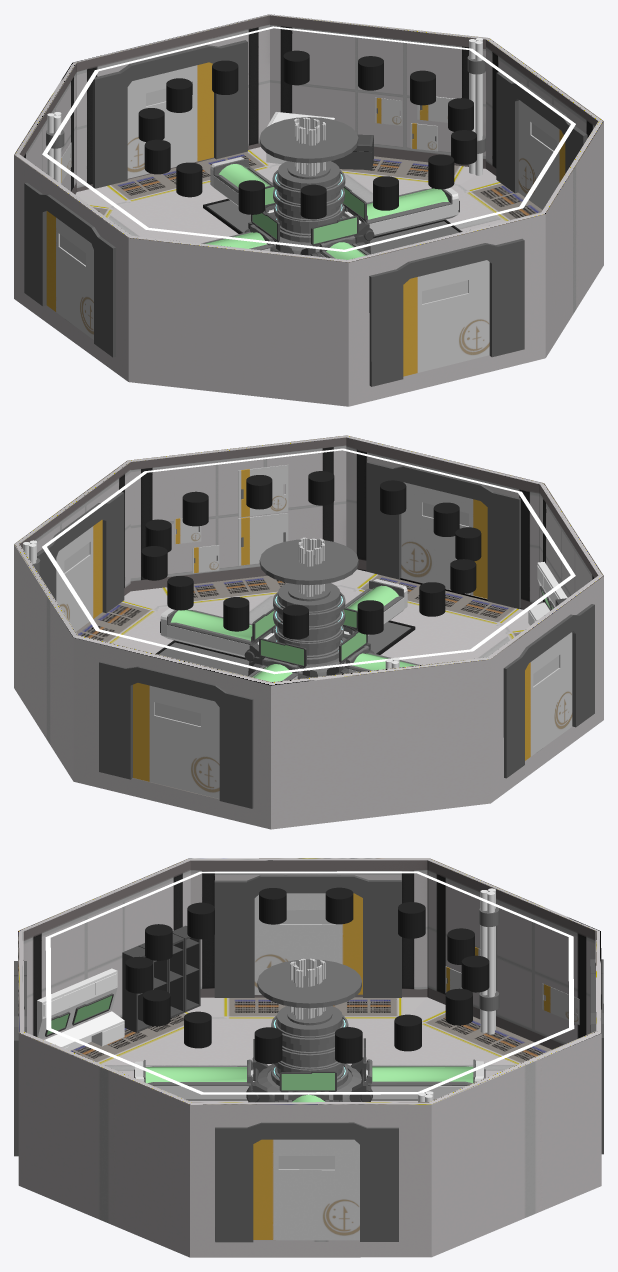
File: HyperSleepChamber.glb
3 renders of one model, top to bottom at view 1: azimuth 30°, elevation 25°; view 2: azimuth 150°, elevation 25°; view 3: azimuth 270°, elevation 25°, orthographic. The views are drawn at different scales.
Visible parts, largest first — view 1: Walls -col, Floor -col, Cylinder.043, door2, door3, InnerDoor.001, Cylinder.001, InnerDoor.003, door4, InnerDoor.002, LightBar, door (+15 smaller); view 2: Walls -col, Floor -col, Cylinder.043, door3, door2, InnerDoor.003, Cylinder.001, door4, InnerDoor.001, InnerDoor.002, door, LightBar (+15 smaller); view 3: Walls -col, Floor -col, Cylinder.043, door4, door, InnerDoor, Cylinder.001, InnerDoor.002, LightBar, Cube.019, Cylinder.038, Cylinder.042 (+12 smaller).
Boxes of the visible parts, bbox=[...] form: Walls -col: bbox=[14, 14, 603, 406]; Floor -col: bbox=[46, 147, 542, 335]; Cylinder.043: bbox=[138, 50, 476, 219]; door2: bbox=[369, 238, 524, 386]; door3: bbox=[92, 40, 247, 188]; InnerDoor.001: bbox=[403, 260, 489, 376]; Cylinder.001: bbox=[259, 117, 358, 254]; InnerDoor.003: bbox=[127, 62, 213, 178]; door4: bbox=[24, 183, 115, 357]; InnerDoor.002: bbox=[46, 211, 93, 339]; LightBar: bbox=[42, 26, 575, 251]; door: bbox=[496, 72, 587, 193]; Walls -col: bbox=[14, 435, 603, 829]; Floor -col: bbox=[76, 569, 564, 799]; Cylinder.043: bbox=[141, 471, 481, 639]; door3: bbox=[99, 661, 253, 808]; door2: bbox=[366, 461, 520, 608]; InnerDoor.003: bbox=[133, 683, 219, 798]; Cylinder.001: bbox=[259, 539, 358, 676]; door4: bbox=[503, 604, 594, 778]; InnerDoor.001: bbox=[401, 482, 487, 598]; InnerDoor.002: bbox=[525, 632, 572, 760]; door: bbox=[37, 492, 124, 613]; LightBar: bbox=[42, 448, 575, 674]; Walls -col: bbox=[18, 858, 601, 1257]; Floor -col: bbox=[70, 997, 551, 1241]; Cylinder.043: bbox=[125, 887, 489, 1063]; door4: bbox=[214, 875, 401, 997]; door: bbox=[215, 1122, 398, 1242]; InnerDoor: bbox=[253, 1139, 359, 1240]; Cylinder.001: bbox=[257, 959, 361, 1102]; InnerDoor.002: bbox=[254, 893, 362, 994]; LightBar: bbox=[45, 871, 574, 1094]; Cube.019: bbox=[37, 968, 124, 1050]; Cylinder.038: bbox=[143, 1059, 252, 1086]; Cylinder.042: bbox=[366, 1059, 475, 1086].
Size of the model in its own units: 16.84 by 5.39 by 16.87.
Materials: 17 (4 with a texture image).
